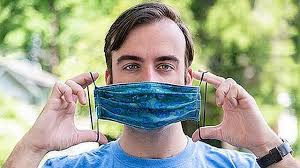cloth_mask: (89, 81, 204, 132)
